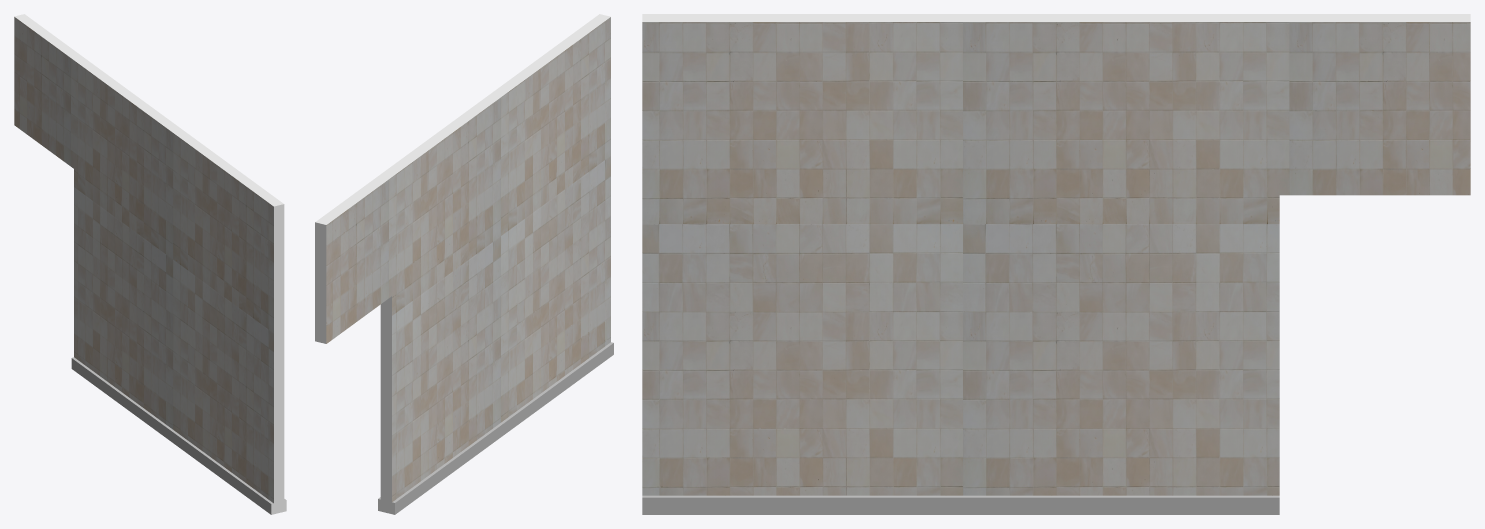
File: Pared_Interior_HuecoPuerta.fbx
3 views of the same model, side by side, from view 1: azimuth 30°, elevation 25°; view 2: azimuth 150°, elevation 25°; view 3: azimuth 270°, elevation 25° (orthographic). The views are drawn at different scales.
Visible parts, largest first — view 1: Pared_Interior_HuecoPuerta; view 2: Pared_Interior_HuecoPuerta; view 3: Pared_Interior_HuecoPuerta.
Part boxes in pixels (bbox=[...]): Pared_Interior_HuecoPuerta: bbox=[14, 14, 286, 514]; Pared_Interior_HuecoPuerta: bbox=[315, 14, 613, 514]; Pared_Interior_HuecoPuerta: bbox=[642, 14, 1470, 514].
Size of what is drawn, in the model's own units: 7.09 by 134 by 205.
